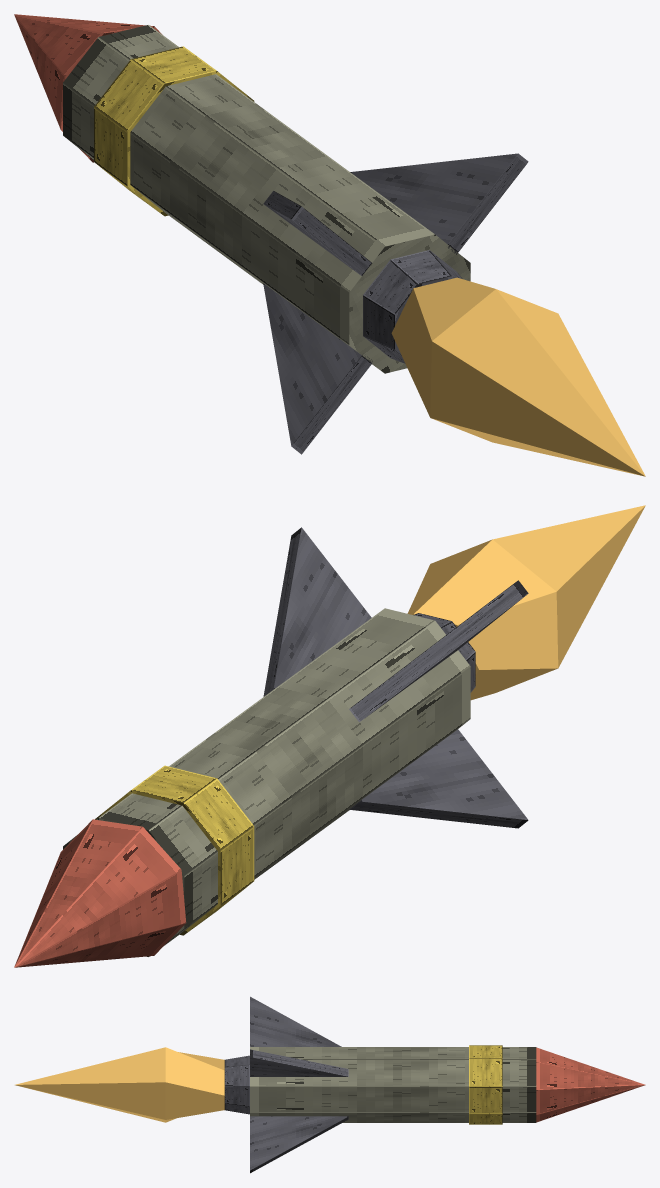
Rendered from proj_rocket.gltf.
3 renders of one model, top to bottom at view 1: azimuth 30°, elevation 25°; view 2: azimuth 150°, elevation 25°; view 3: azimuth 270°, elevation 25°, orthographic. The views are drawn at different scales.
Parts seen in each view (by area): view 1: body, glow; view 2: body, glow; view 3: body, glow.
Boxes of the visible parts, x1=… form: body: x1=14, y1=14, x2=528, y2=454; glow: x1=391, y1=277, x2=645, y2=476; body: x1=14, y1=527, x2=528, y2=967; glow: x1=407, y1=505, x2=645, y2=700; body: x1=224, y1=996, x2=645, y2=1173; glow: x1=15, y1=1047, x2=224, y2=1122.
Bounding box in the file's own units: 0.1626 × 0.1626 × 0.75.
2 materials, 1 textured.
